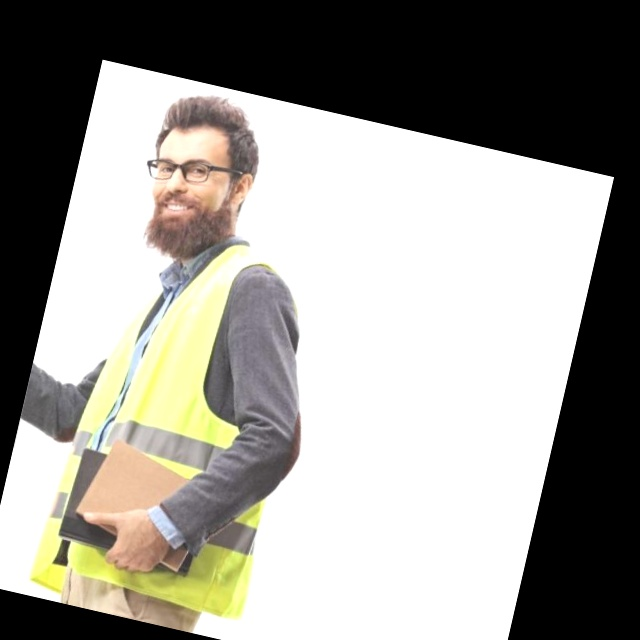Con_Chaleco: (25, 225, 319, 624)
Sin_Casco_Mascarrilla: (130, 85, 272, 265)
